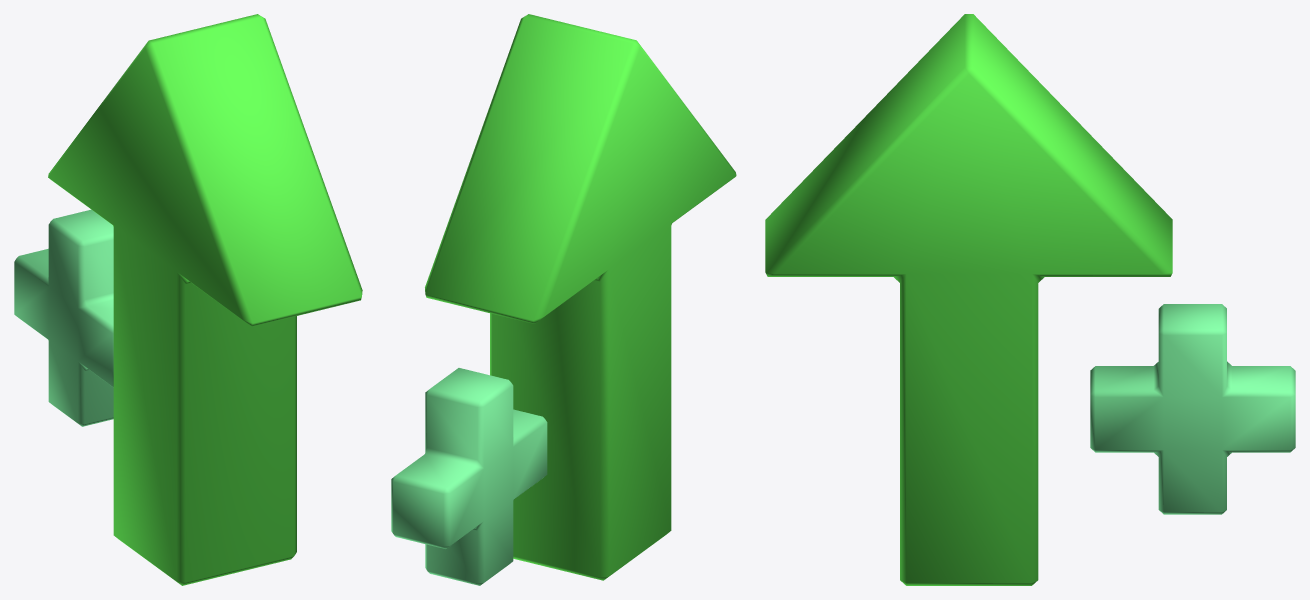
The model's file is jump_pickup.fbx.
3 renders of one model, left to right at view 1: azimuth 30°, elevation 25°; view 2: azimuth 150°, elevation 25°; view 3: azimuth 270°, elevation 25°, orthographic.
Visible parts, largest first — view 1: Cube, Cube.001; view 2: Cube, Cube.001; view 3: Cube, Cube.001.
Boxes of the visible parts, x1=… form: Cube: x1=48, y1=14, x2=362, y2=585; Cube.001: x1=14, y1=209, x2=113, y2=426; Cube: x1=425, y1=14, x2=736, y2=580; Cube.001: x1=391, y1=368, x2=547, y2=585; Cube: x1=765, y1=14, x2=1172, y2=585; Cube.001: x1=1090, y1=304, x2=1295, y2=514.
Size of the model in its own units: 200 by 828 by 766.
